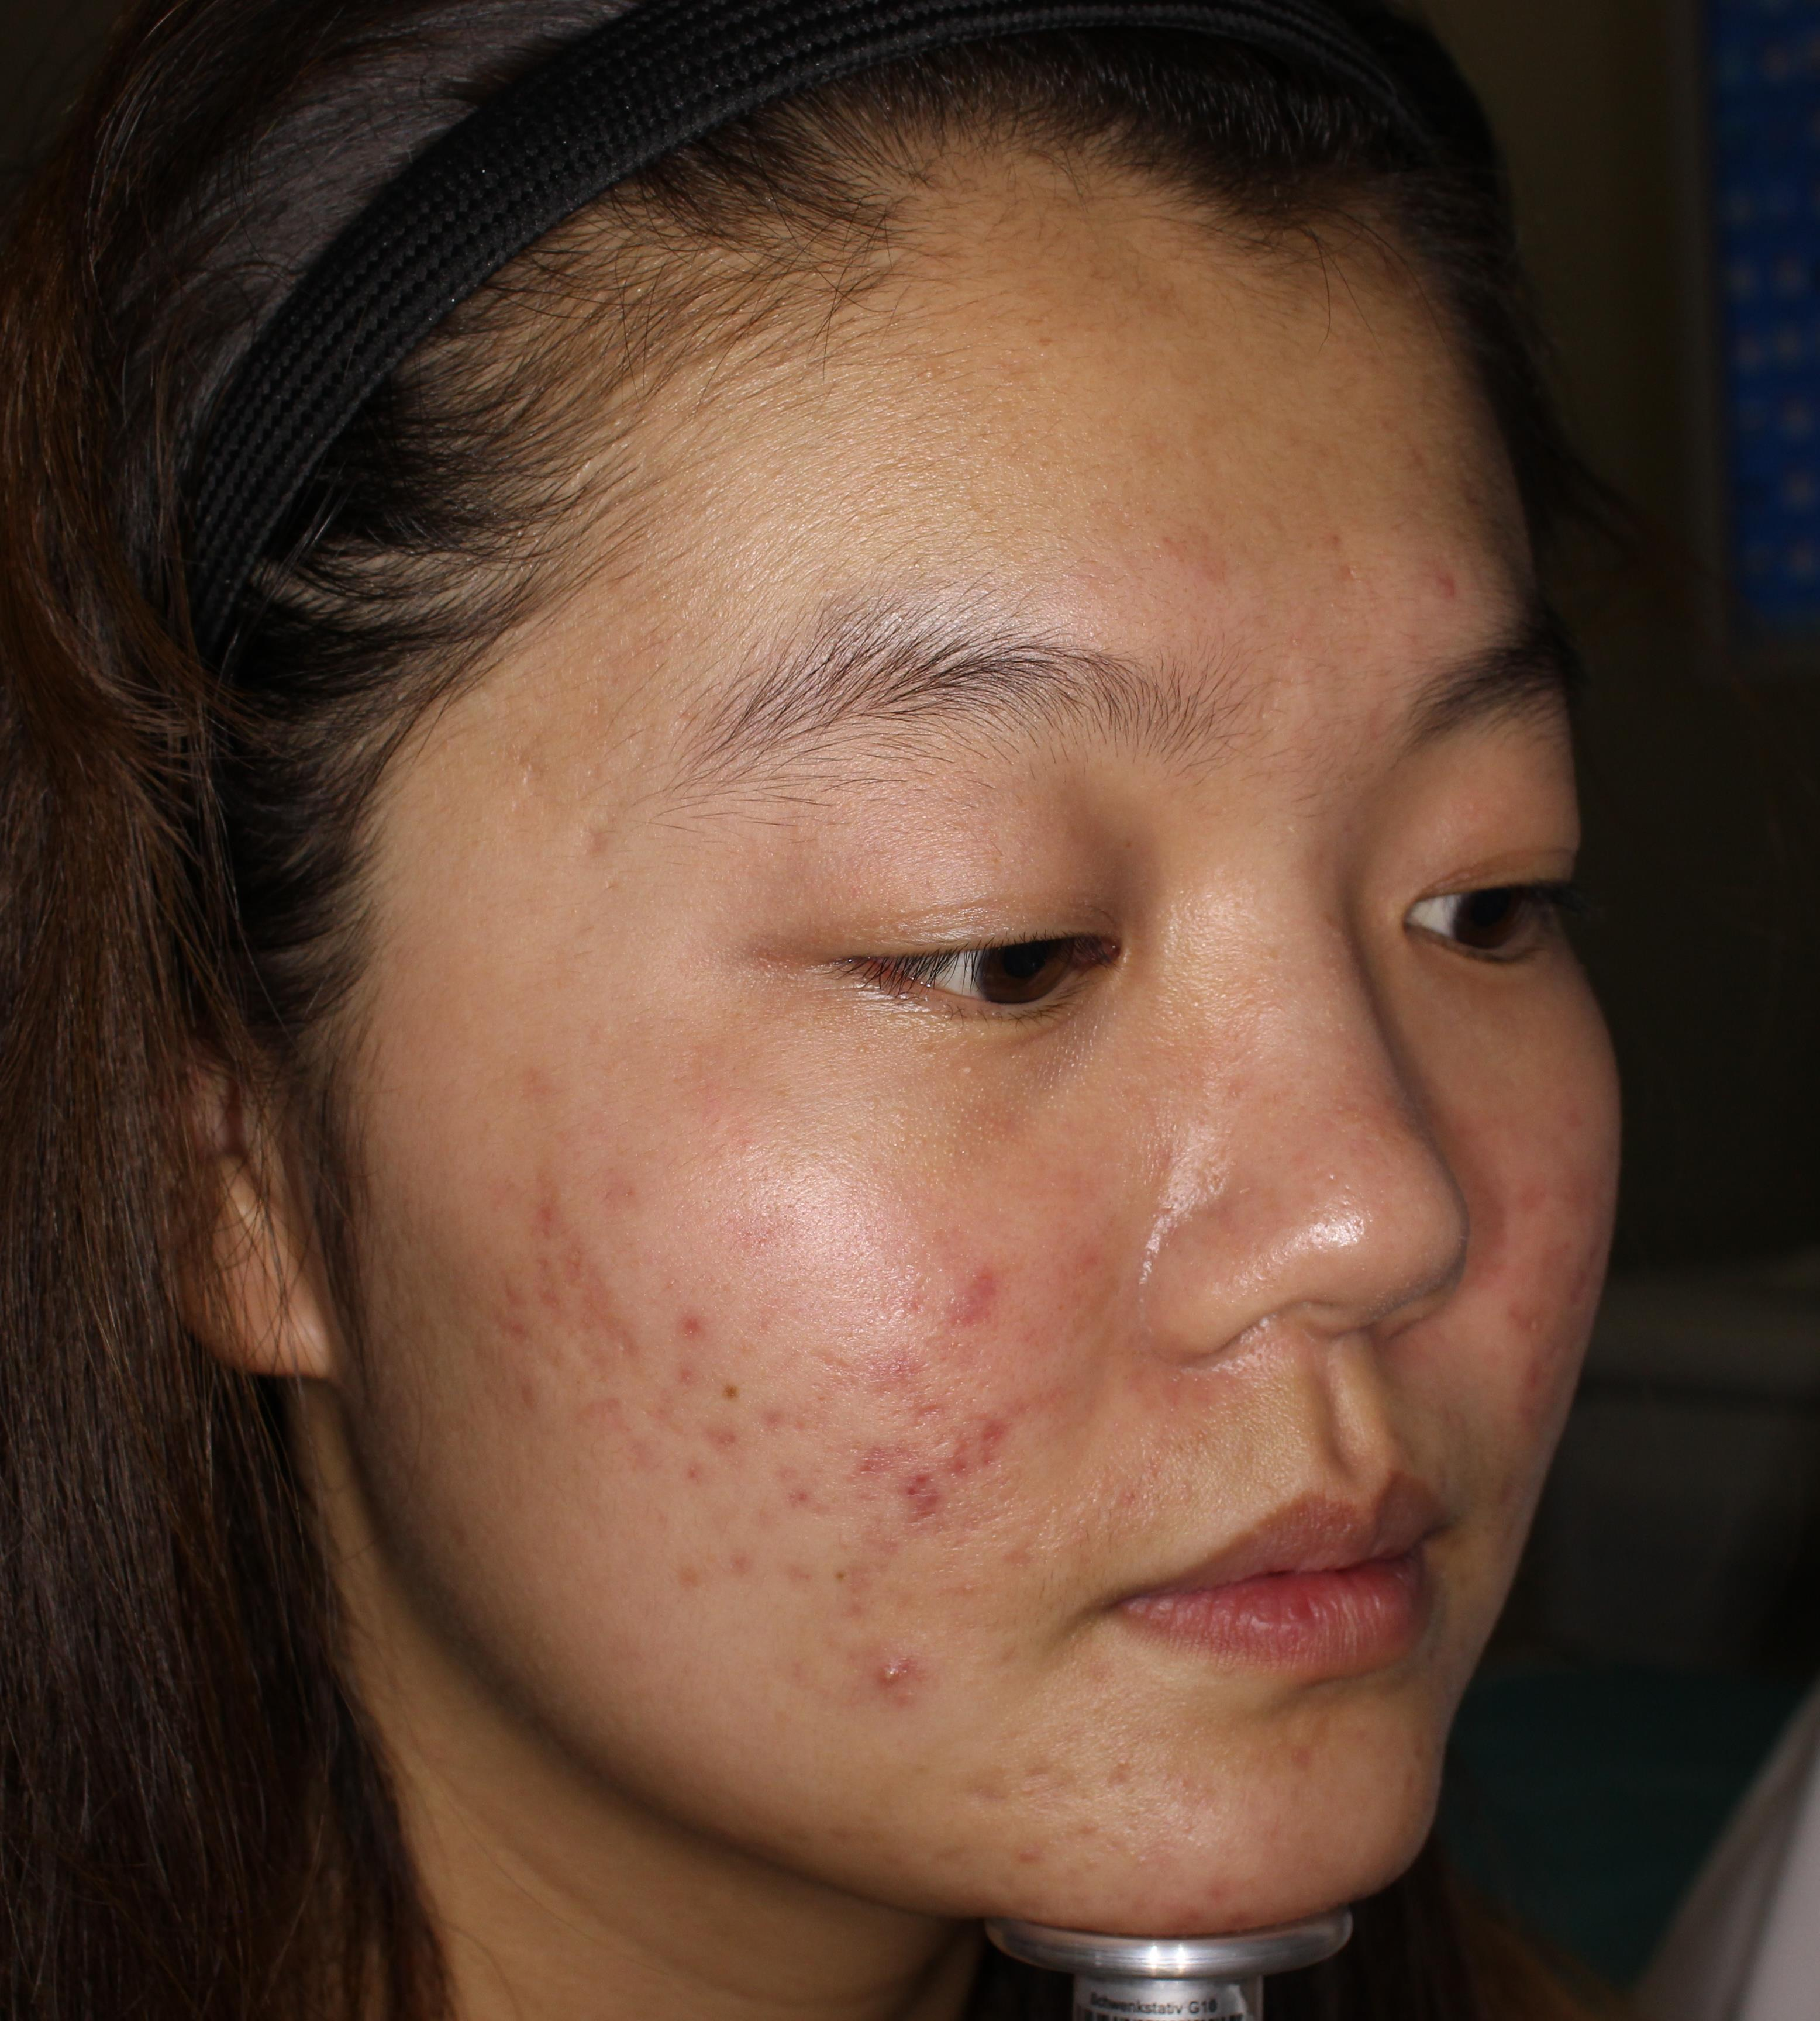fore: (834, 1617, 947, 1728), (898, 1245, 1010, 1347), (661, 1387, 754, 1491), (485, 1343, 566, 1447), (490, 1150, 574, 1248), (652, 1277, 731, 1375), (910, 1392, 1028, 1456), (892, 1464, 970, 1554), (552, 1248, 624, 1334), (834, 1415, 901, 1482)
